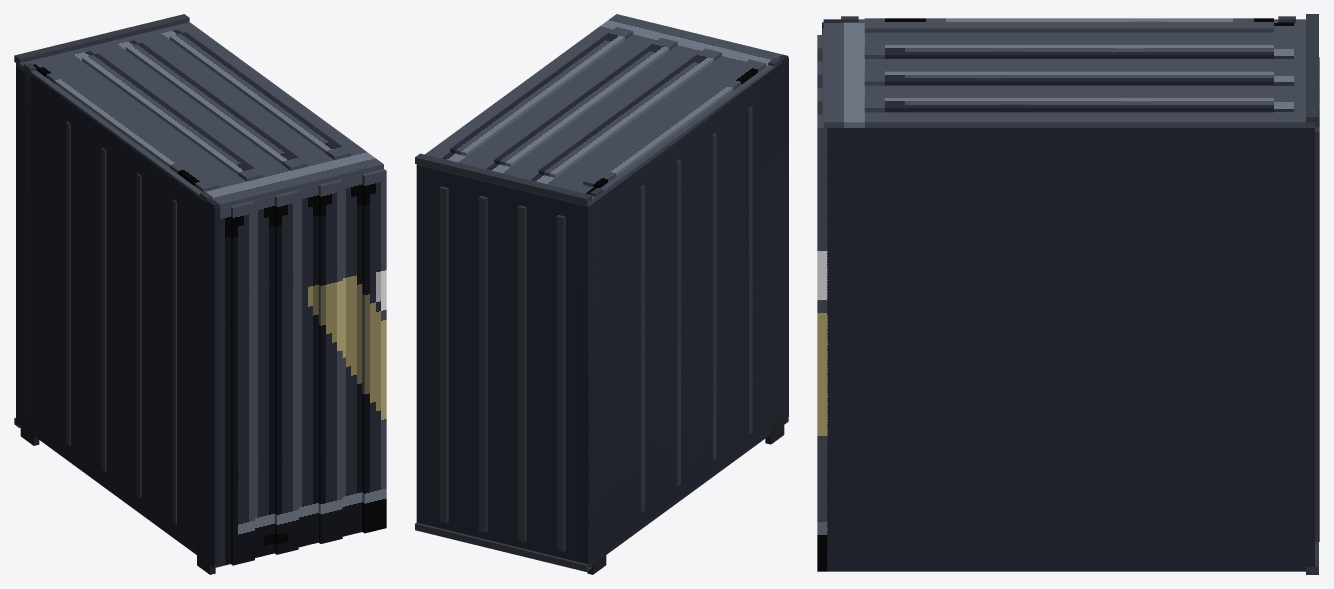
The model's file is CMU3DFreightAU14ContainerWYLeft.glb.
3 renders of one model, left to right at view 1: azimuth 30°, elevation 25°; view 2: azimuth 150°, elevation 25°; view 3: azimuth 270°, elevation 25°, orthographic. The views are drawn at different scales.
Parts seen in each view (by area): view 1: closed cargo shell, source-painted corrugated roof, outer end wall, painted corrugation 8, painted corrugation 6, painted corrugation 4, painted corrugation 2, painted corrugation 7, painted corrugation 5, painted corrugation 3, end wall rib (×4), painted corrugation 1 (+6 smaller); view 2: closed cargo shell, outer end wall, source-painted corrugated roof, rear wall corrugation (×4), end wall rib (×4), rear horizontal frame (×2), source-painted roof ridge 2, source-painted roof ridge 3, source-painted roof ridge 1, source-painted roof ridge 4; view 3: closed cargo shell, source-painted corrugated roof, source-painted roof ridge 1, source-painted roof ridge 3, source-painted roof ridge 4, source-painted roof ridge 2, painted corrugation 8, rear wall corrugation, rear horizontal frame.
Boxes of the visible parts, left/top/right/bottom form: closed cargo shell: left=16, top=66, right=212, bottom=565; source-painted corrugated roof: left=16, top=22, right=383, bottom=209; outer end wall: left=16, top=64, right=220, bottom=563; painted corrugation 8: left=362, top=169, right=386, bottom=533; painted corrugation 6: left=318, top=179, right=342, bottom=543; painted corrugation 4: left=274, top=190, right=298, bottom=554; painted corrugation 2: left=231, top=201, right=254, bottom=565; painted corrugation 7: left=340, top=174, right=362, bottom=536; painted corrugation 5: left=296, top=185, right=318, bottom=547; painted corrugation 3: left=253, top=195, right=274, bottom=557; end wall rib (×4): left=66, top=121, right=176, bottom=523; painted corrugation 1: left=212, top=206, right=230, bottom=567; closed cargo shell: left=416, top=78, right=786, bottom=567; outer end wall: left=582, top=57, right=788, bottom=563; source-painted corrugated roof: left=416, top=14, right=788, bottom=206; rear wall corrugation (×4): left=439, top=186, right=565, bottom=551; end wall rib (×4): left=640, top=106, right=752, bottom=512; rear horizontal frame (×2): left=415, top=153, right=591, bottom=571; source-painted roof ridge 2: left=538, top=48, right=721, bottom=177; source-painted roof ridge 3: left=494, top=38, right=677, bottom=166; source-painted roof ridge 1: left=583, top=59, right=766, bottom=187; source-painted roof ridge 4: left=450, top=27, right=633, bottom=156; closed cargo shell: left=827, top=128, right=1314, bottom=571; source-painted corrugated roof: left=823, top=19, right=1314, bottom=127; source-painted roof ridge 1: left=864, top=18, right=1273, bottom=32; source-painted roof ridge 3: left=864, top=71, right=1273, bottom=85; source-painted roof ridge 4: left=864, top=98, right=1273, bottom=112; source-painted roof ridge 2: left=864, top=45, right=1273, bottom=58; painted corrugation 8: left=817, top=114, right=827, bottom=571; rear wall corrugation: left=1315, top=127, right=1319, bottom=541; rear horizontal frame: left=1306, top=14, right=1318, bottom=124.
Bounding box in the file's own units: 0.9768 × 2.05 × 2.
15 materials, 11 textured.
